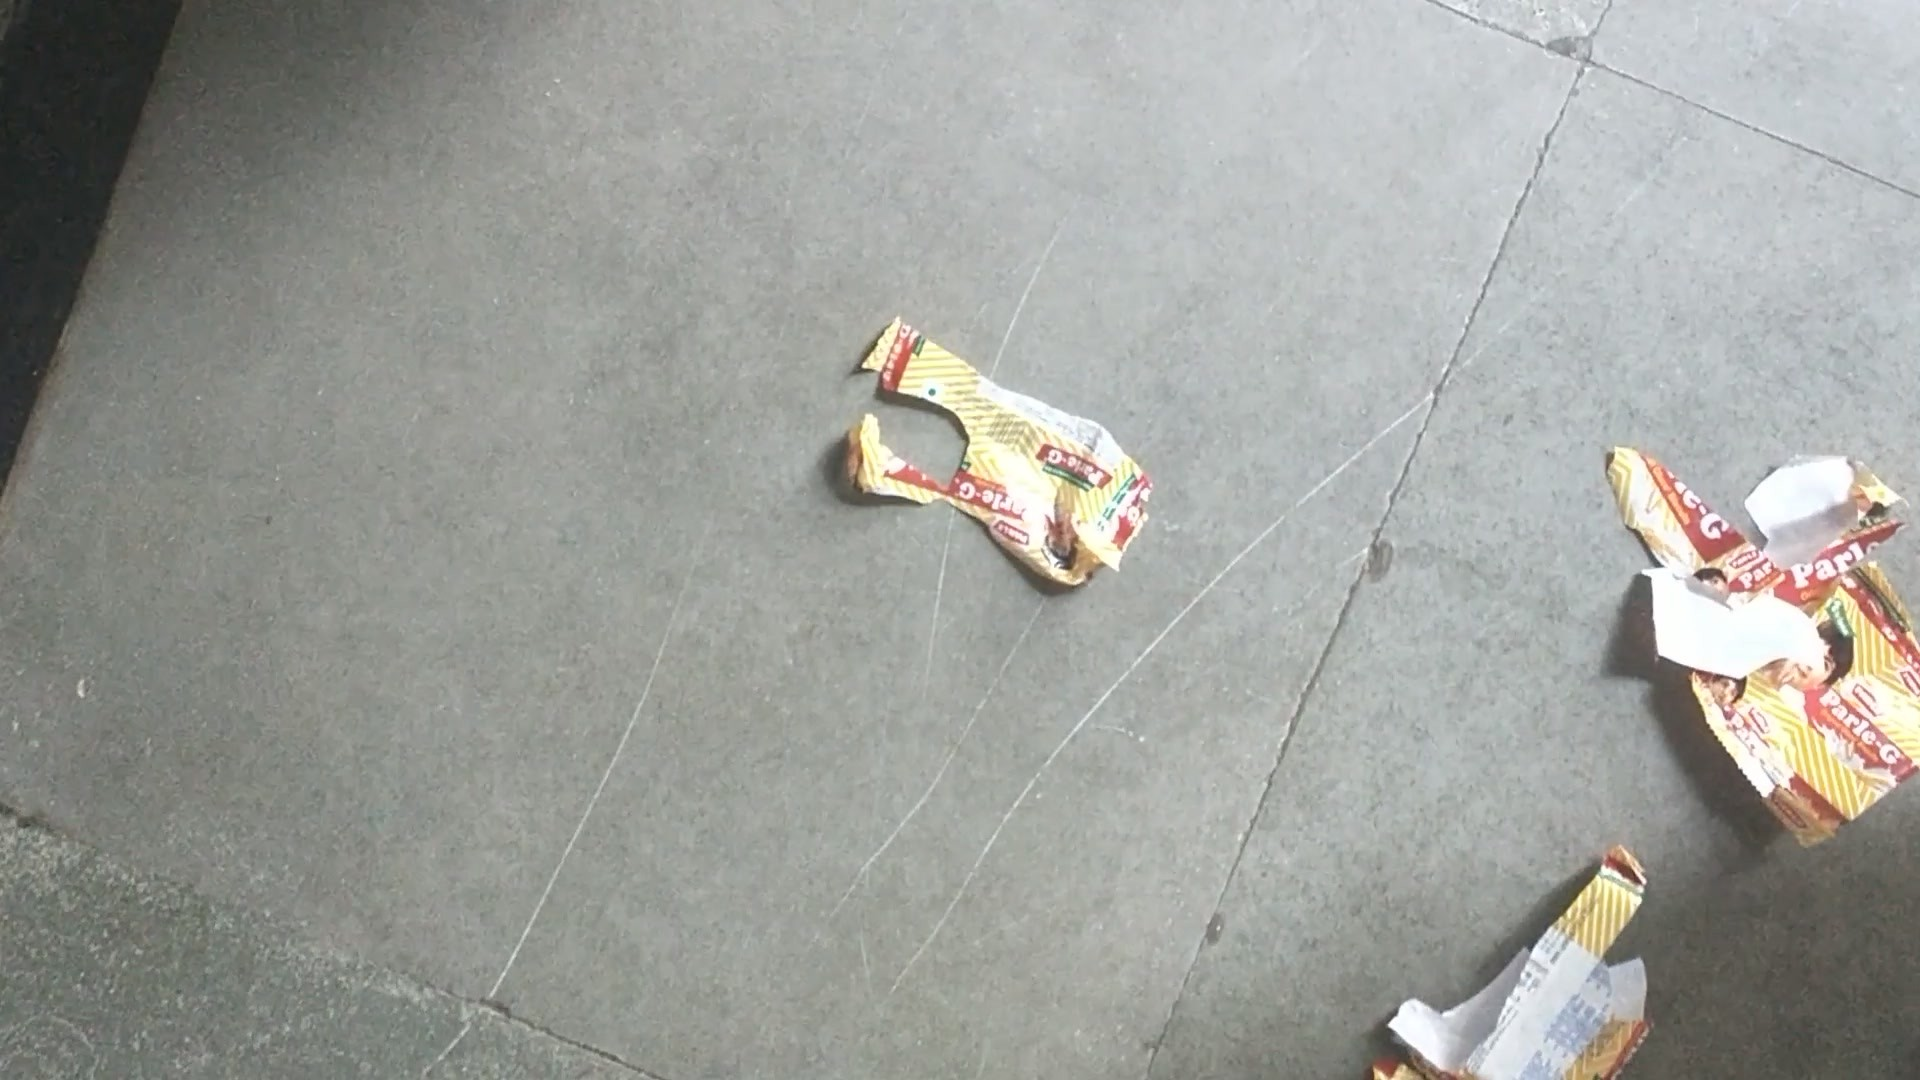parle-g: (1689, 513, 1920, 775)
parle-g-b: (1478, 866, 1651, 1080), (963, 407, 1113, 549)
